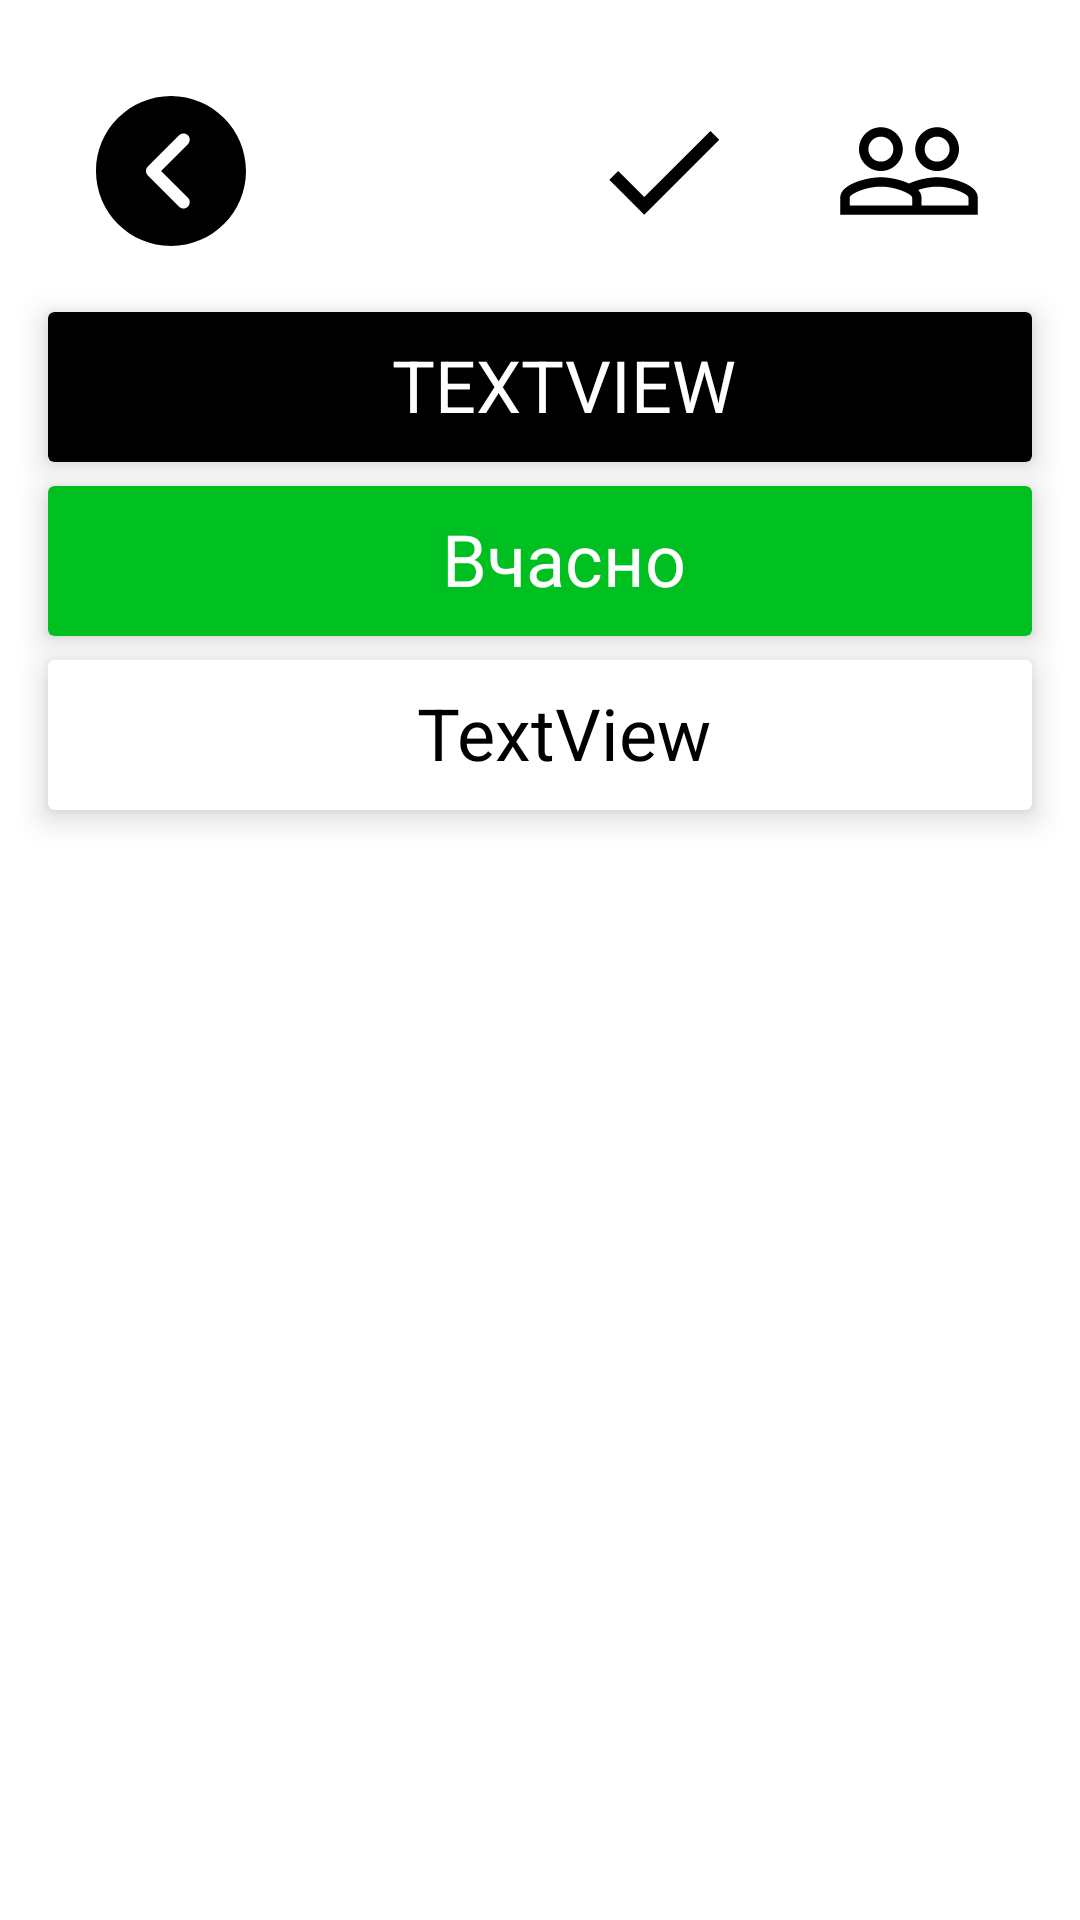

Screen size 1080w x 1920h. Icon name, then its center in pixels as (x=x, y=y):
check: (x=664, y=173)
left arrow: (x=171, y=171)
responsibles: (x=909, y=171)
